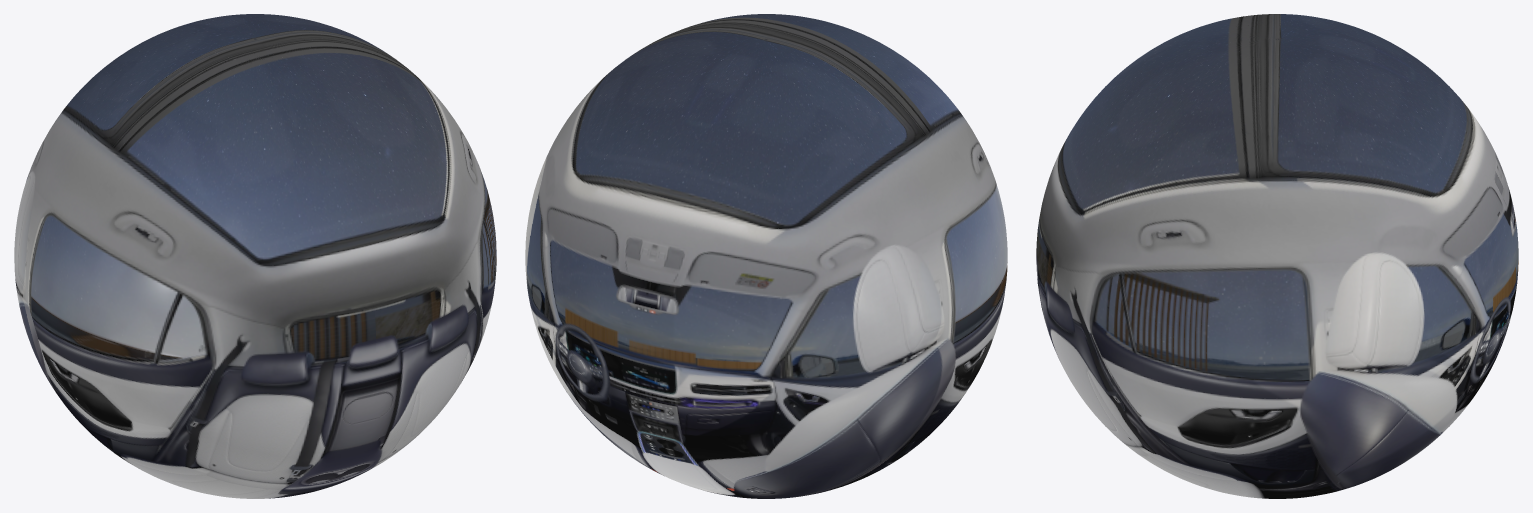
Rendered from panonight.glb.
The picture shows the model from 3 angles, left to right: view 1: azimuth 30°, elevation 25°; view 2: azimuth 150°, elevation 25°; view 3: azimuth 270°, elevation 25°; orthographic projection.
Visible parts, largest first — view 1: Sphere; view 2: Sphere; view 3: Sphere.
Part boxes in pixels (x1,y1,x2,y2): Sphere: (14,14,496,498); Sphere: (525,14,1007,498); Sphere: (1036,14,1518,498).
Bounding box in the file's own units: 430 × 427 × 430.
1 material, 1 textured.
